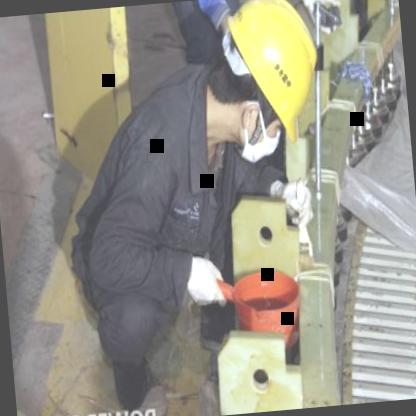helmet: (205, 0, 339, 166)
